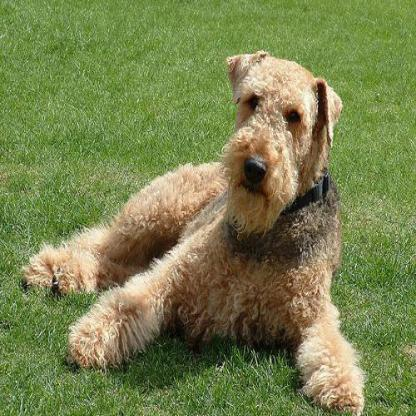dog: (51, 43, 385, 415)
